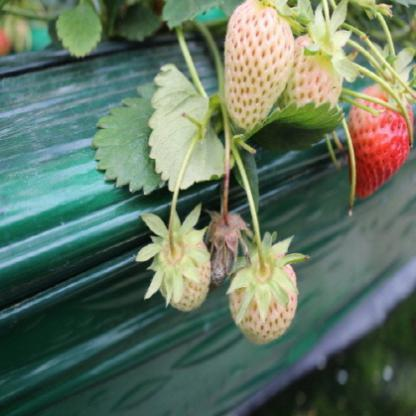Strawberry_Gray_Mold: (204, 206, 251, 292)
